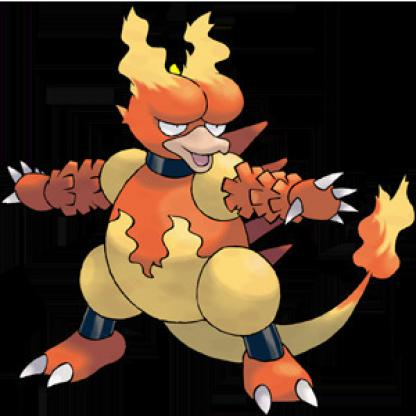Magmar: (16, 18, 395, 416)
